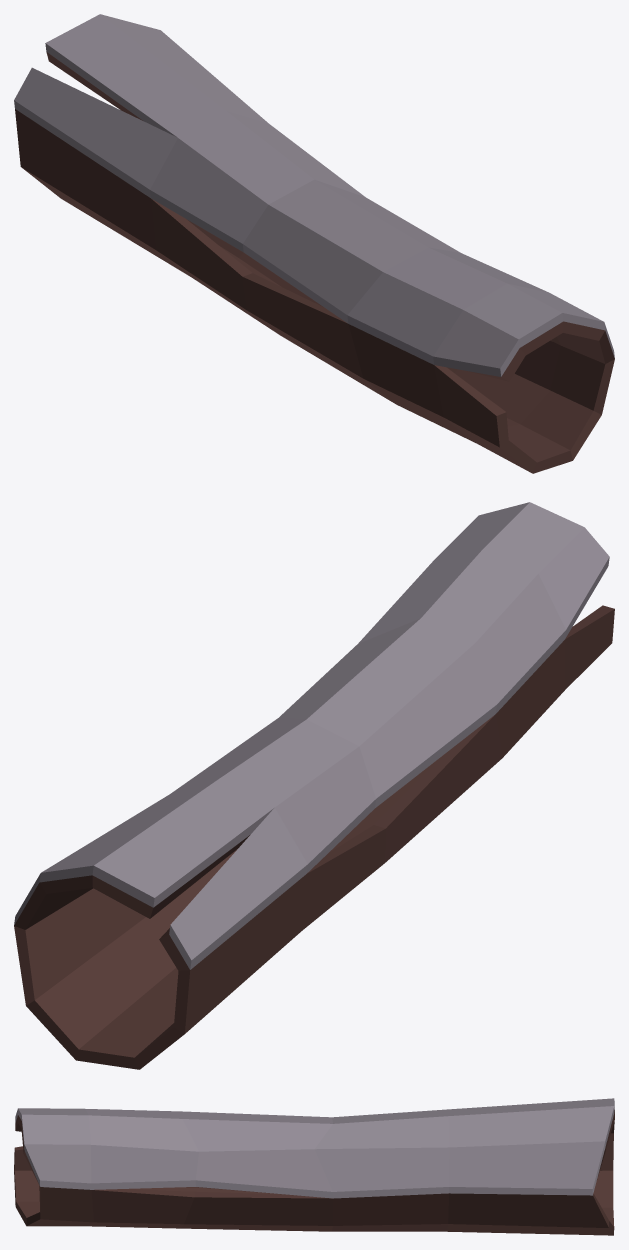
The model's file is nature_wood_log_snow.glb.
3 renders of one model, top to bottom at view 1: azimuth 30°, elevation 25°; view 2: azimuth 150°, elevation 25°; view 3: azimuth 270°, elevation 25°, orthographic. The views are drawn at different scales.
Parts seen in each view (by area): view 1: WoodLog_Snow; view 2: WoodLog_Snow; view 3: WoodLog_Snow.
Boxes of the visible parts, x1=… form: WoodLog_Snow: x1=14, y1=14, x2=614, y2=473; WoodLog_Snow: x1=14, y1=502, x2=614, y2=1069; WoodLog_Snow: x1=14, y1=1098, x2=614, y2=1235.
Bounding box in the file's own units: 0.6268 × 0.5841 × 2.49.
